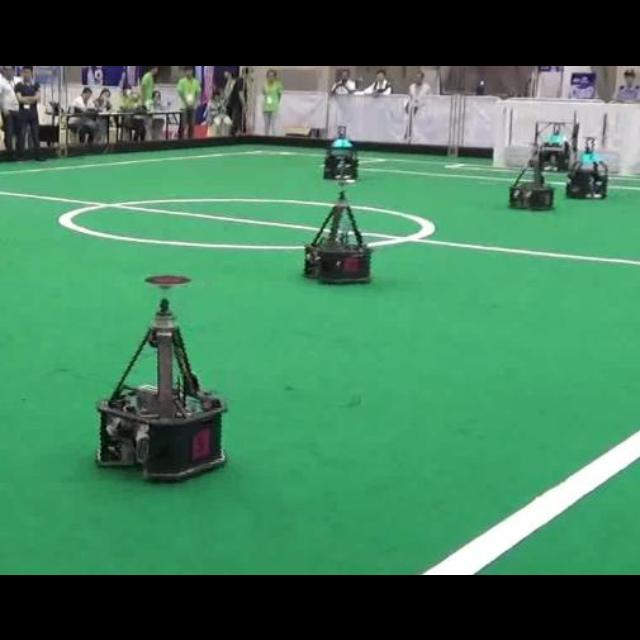goal: (493, 100, 507, 167)
robot: (96, 297, 226, 480), (304, 196, 370, 280), (511, 133, 555, 209), (566, 141, 607, 197), (324, 125, 359, 180), (541, 122, 573, 170)
